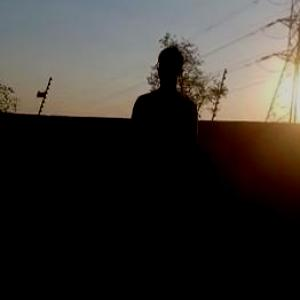follow: (98, 35, 205, 299)
